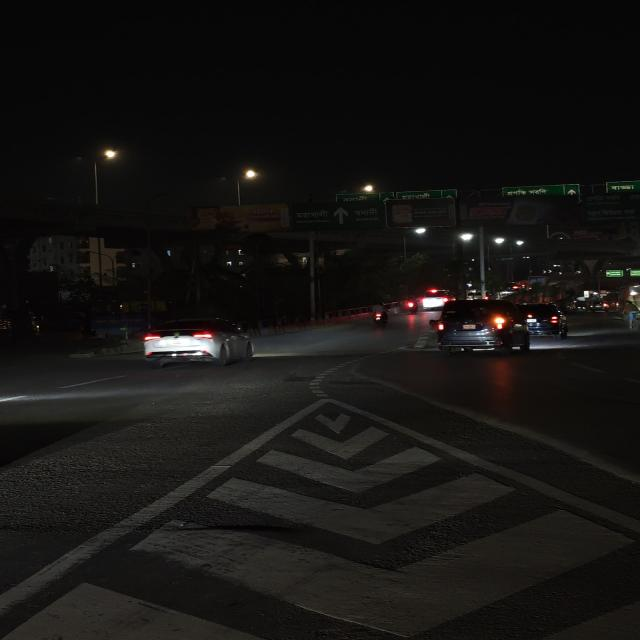car: (135, 316, 263, 370), (426, 299, 530, 357), (521, 302, 572, 339), (420, 290, 451, 310)
motorcycle: (366, 303, 393, 329), (402, 296, 425, 314)
